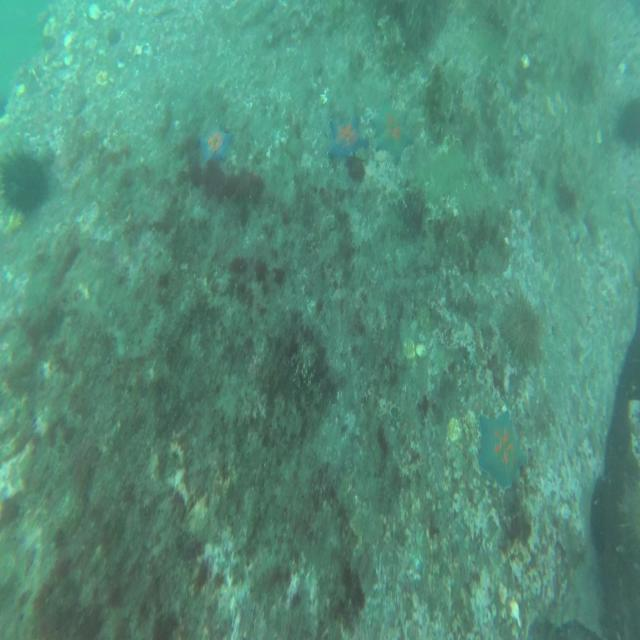echinus: (502, 292, 539, 374), (4, 144, 48, 212), (614, 87, 640, 155), (624, 473, 640, 581)
scallop: (445, 416, 464, 440), (403, 334, 416, 361)
starfish: (478, 403, 526, 486), (378, 104, 408, 161), (334, 110, 365, 156), (201, 126, 228, 163)
